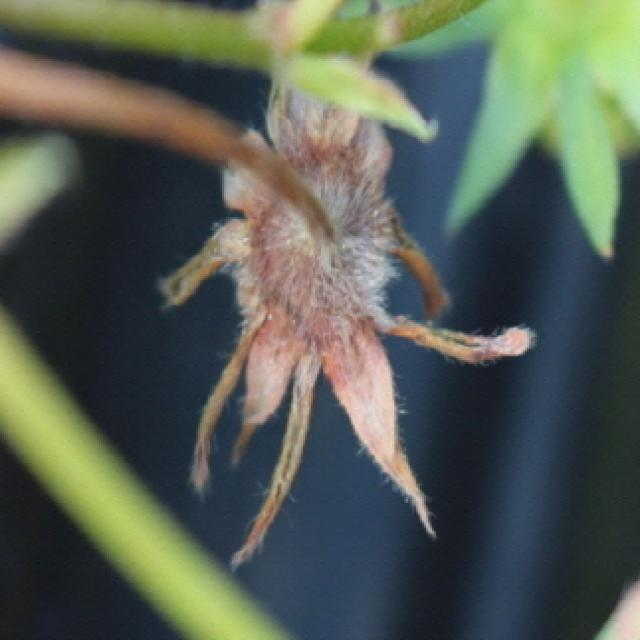Gray Mold: (154, 77, 539, 570)
